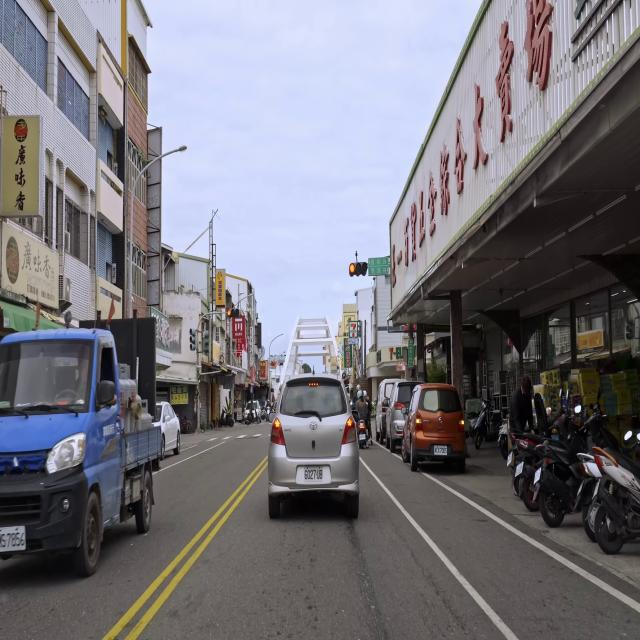red light: (348, 262, 368, 275), (227, 308, 240, 318)
